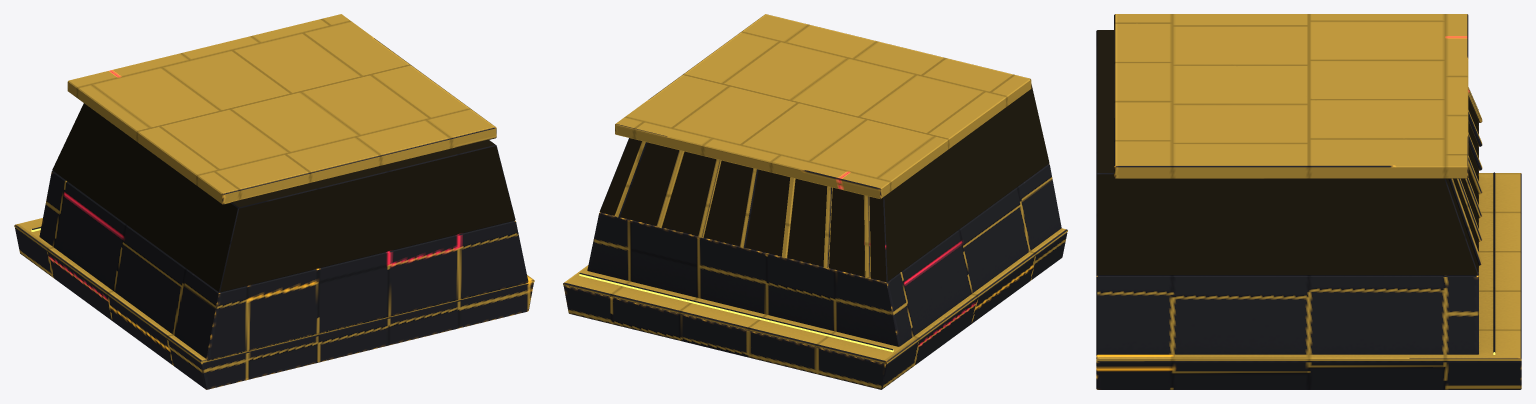
The model's file is cabina_puente_t4.fbx.
3 renders of one model, left to right at view 1: azimuth 30°, elevation 25°; view 2: azimuth 150°, elevation 25°; view 3: azimuth 270°, elevation 25°, orthographic. The views are drawn at different scales.
Parts seen in each view (by area): view 1: cabina_puente_t4, cabina_puente_t4_cristal; view 2: cabina_puente_t4, cabina_puente_t4_cristal, cabina_puente_t4_neon; view 3: cabina_puente_t4, cabina_puente_t4_cristal.
Part boxes in pixels (x1=…): cabina_puente_t4: x1=14, y1=14, x2=534, y2=389; cabina_puente_t4_cristal: x1=52, y1=103, x2=514, y2=291; cabina_puente_t4: x1=563, y1=14, x2=1067, y2=389; cabina_puente_t4_cristal: x1=600, y1=84, x2=1049, y2=281; cabina_puente_t4_neon: x1=579, y1=274, x2=893, y2=352; cabina_puente_t4: x1=1096, y1=14, x2=1521, y2=389; cabina_puente_t4_cristal: x1=1097, y1=30, x2=1478, y2=274.
Bounding box in the file's own units: 6.2 × 3.47 × 6.
